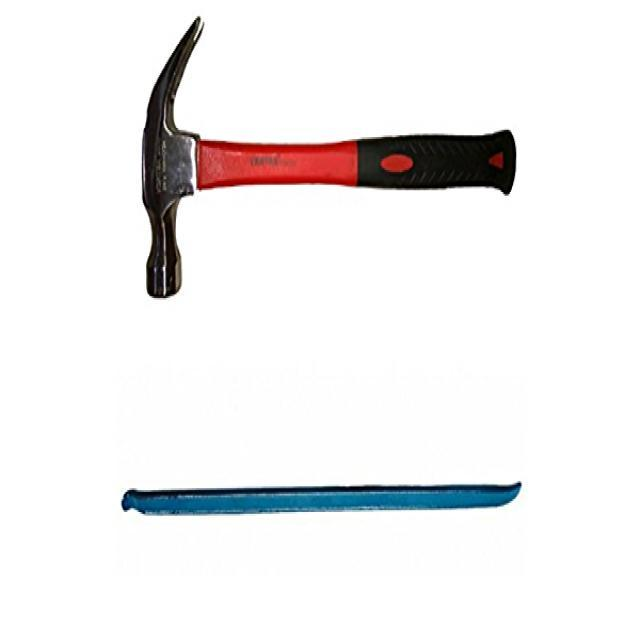hammer: (136, 8, 522, 306)
